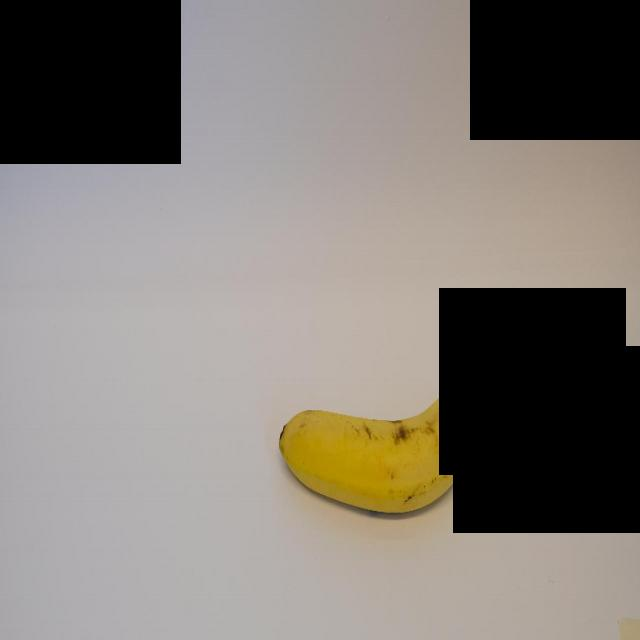banana: (277, 380, 478, 520)
